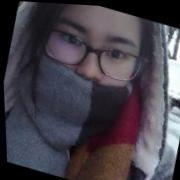WRONG: (26, 4, 152, 142)
